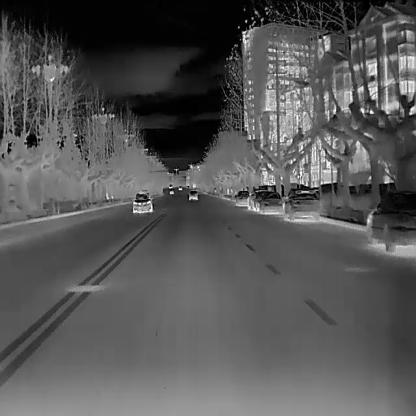car: (280, 186, 321, 222), (131, 188, 152, 213), (258, 191, 280, 213), (247, 190, 266, 211), (233, 188, 252, 208), (188, 189, 198, 199), (168, 182, 173, 187), (169, 188, 173, 194), (177, 184, 181, 188)
